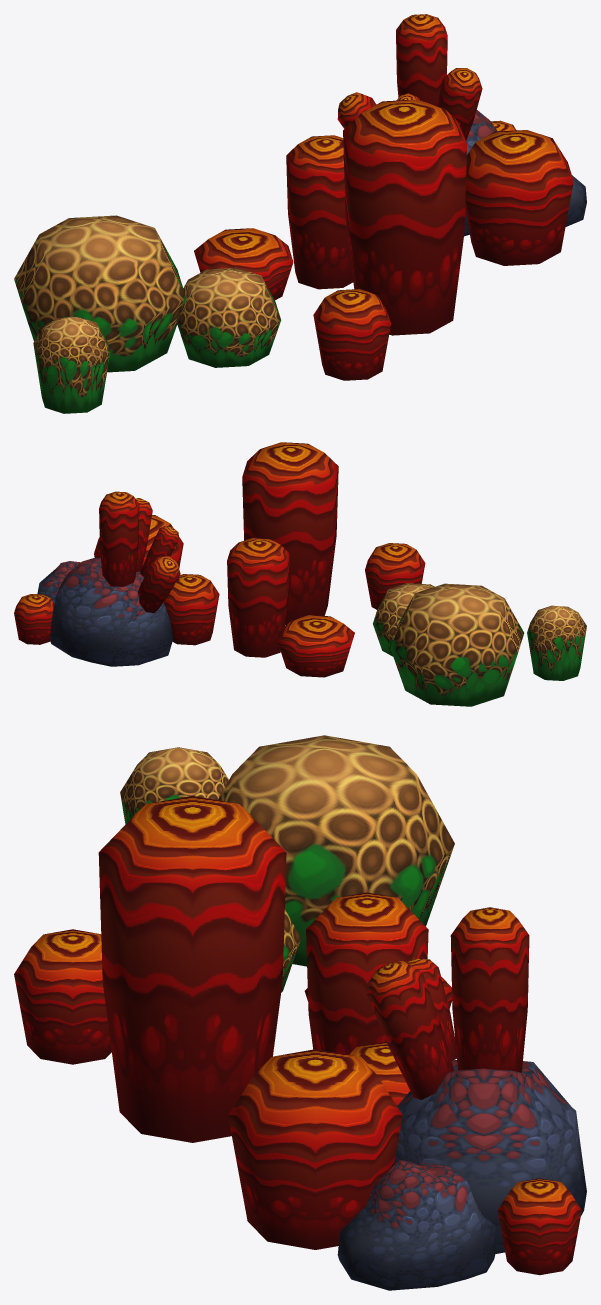
Rendered from CoralSet_16.FBX.
3 views of the same model, one above another, from view 1: azimuth 30°, elevation 25°; view 2: azimuth 150°, elevation 25°; view 3: azimuth 270°, elevation 25° (orthographic). The views are drawn at different scales.
Parts seen in each view (by area): view 1: Sphere042, Sphere006, Sphere005, Sphere014, Sphere010, Sphere011, Sphere040, Sphere013, Sphere036, Sphere037, Sphere038, Plane028 (+1 smaller); view 2: Sphere006, Sphere042, Plane028, Sphere014, Sphere013, Sphere011, Sphere036, Sphere012, Sphere040, Sphere041, Sphere010, Sphere038 (+4 smaller); view 3: Sphere042, Sphere006, Sphere005, Plane028, Plane032, Sphere014, Sphere036, Sphere040, Sphere037, Sphere041, Sphere011, Sphere012 (+2 smaller).
Part boxes in pixels (left/top/right/bottom): Sphere042: left=343, top=99, right=466, bottom=335; Sphere006: left=14, top=215, right=186, bottom=372; Sphere005: left=465, top=130, right=573, bottom=265; Sphere014: left=286, top=135, right=353, bottom=289; Sphere010: left=176, top=267, right=281, bottom=367; Sphere011: left=33, top=317, right=110, bottom=413; Sphere040: left=313, top=289, right=390, bottom=380; Sphere013: left=194, top=228, right=293, bottom=300; Sphere036: left=396, top=14, right=447, bottom=105; Sphere037: left=437, top=68, right=482, bottom=140; Sphere038: left=337, top=92, right=376, bottom=128; Plane028: left=464, top=110, right=497, bottom=236; Sphere006: left=390, top=583, right=524, bottom=706; Sphere042: left=242, top=442, right=338, bottom=624; Plane028: left=50, top=557, right=173, bottom=666; Sphere014: left=227, top=538, right=289, bottom=657; Sphere013: left=277, top=615, right=354, bottom=677; Sphere011: left=527, top=605, right=586, bottom=680; Sphere036: left=99, top=491, right=139, bottom=586; Sphere012: left=163, top=574, right=219, bottom=645; Sphere040: left=365, top=543, right=425, bottom=609; Sphere041: left=14, top=594, right=54, bottom=644; Sphere010: left=373, top=583, right=434, bottom=656; Sphere038: left=138, top=556, right=180, bottom=612; Sphere042: left=98, top=796, right=286, bottom=1142; Sphere006: left=218, top=735, right=454, bottom=966; Sphere005: left=228, top=1049, right=402, bottom=1249; Plane028: left=393, top=1060, right=586, bottom=1253; Plane032: left=337, top=1159, right=495, bottom=1290; Sphere014: left=306, top=892, right=428, bottom=1054; Sphere036: left=450, top=907, right=529, bottom=1072; Sphere040: left=14, top=929, right=111, bottom=1064; Sphere037: left=367, top=961, right=453, bottom=1099; Sphere041: left=497, top=1178, right=581, bottom=1275; Sphere011: left=120, top=747, right=228, bottom=824; Sphere012: left=349, top=1042, right=410, bottom=1105.
Bounding box in the file's own units: 263 × 84.31 × 144.
